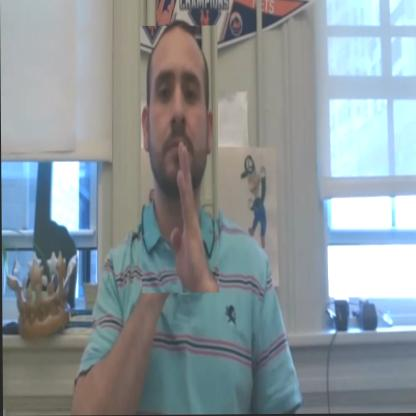Talk: (140, 26, 219, 293)
